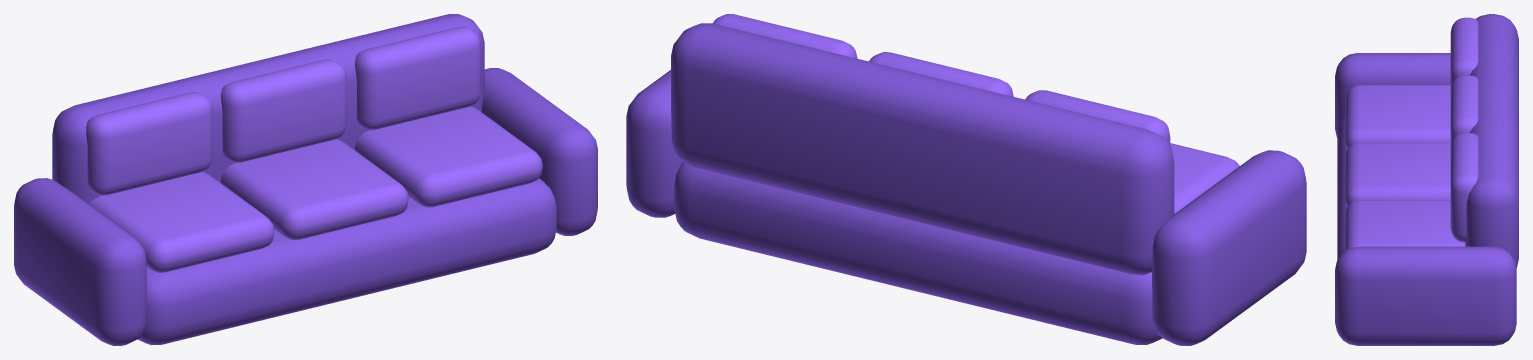
The model's file is sofa.glb.
3 views of the same model, side by side, from view 1: azimuth 30°, elevation 25°; view 2: azimuth 150°, elevation 25°; view 3: azimuth 270°, elevation 25° (orthographic). The views are drawn at different scales.
Visible parts, largest first — view 1: Sofa; view 2: Sofa; view 3: Sofa.
Part boxes in pixels (<box>): Sofa: <box>14,14,597,345</box>; Sofa: <box>626,14,1306,345</box>; Sofa: <box>1335,14,1518,345</box>.
Bounding box in the file's own units: 2.46 × 0.85 × 0.89.
